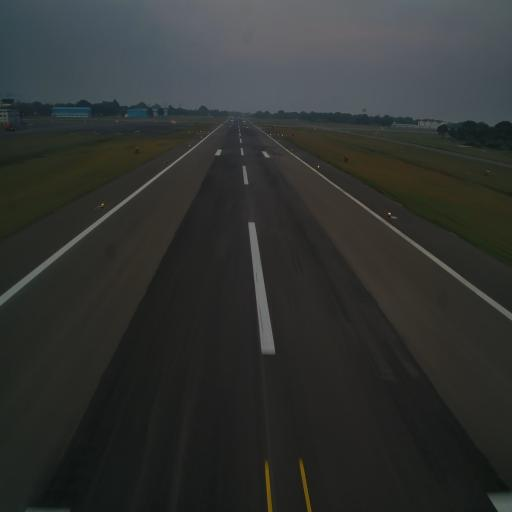off: (165, 160, 168, 164)
on: (387, 209, 392, 217), (100, 200, 104, 208), (317, 164, 320, 169), (292, 149, 294, 152), (189, 144, 191, 147)
